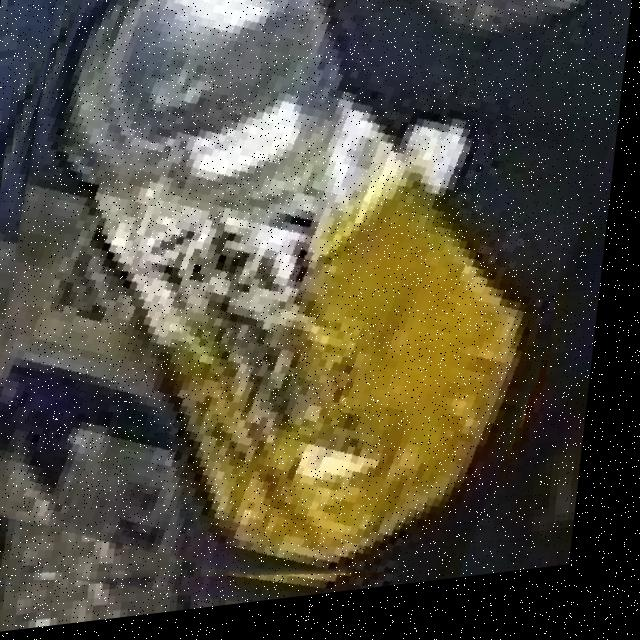can: (34, 0, 564, 589)
